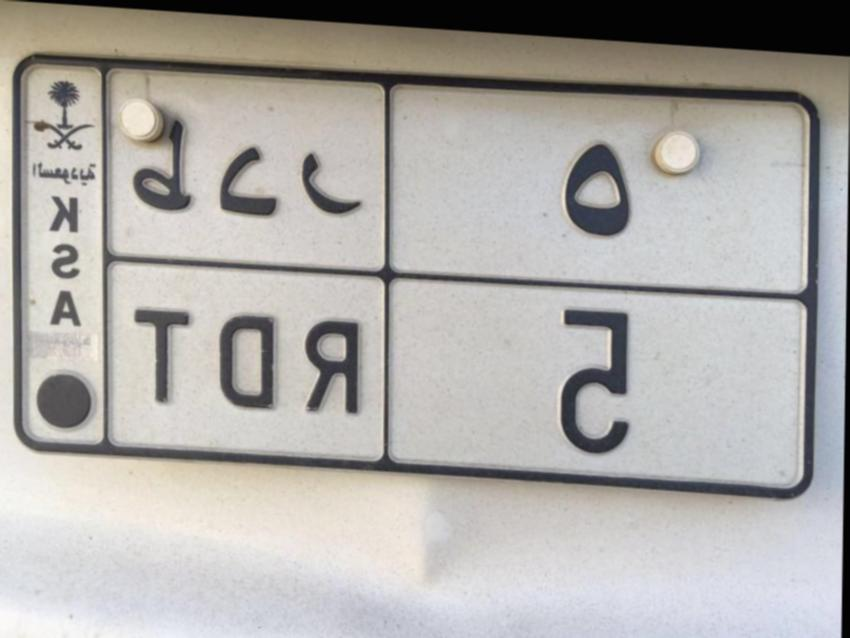License_Plate: (5, 25, 829, 516)
